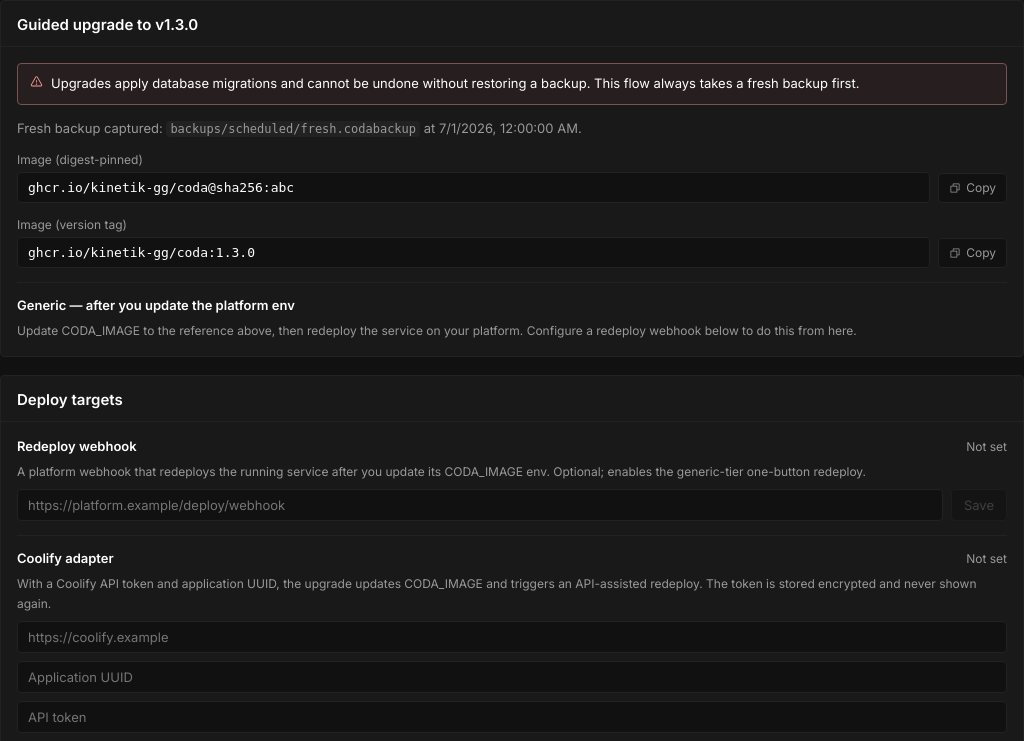
Test case: UpgradeCeremony › copies the digest-pinned image reference to the clipboard
This screenshot has width=1024, height=741.
What coordinates should you click on to do the following:
click the button "Copy" in the row of "ghcr.io/kinetik-gg/coda@sha256:abc"
I would click on:
 (973, 188)
Its box is 938,172 -> 1007,202.
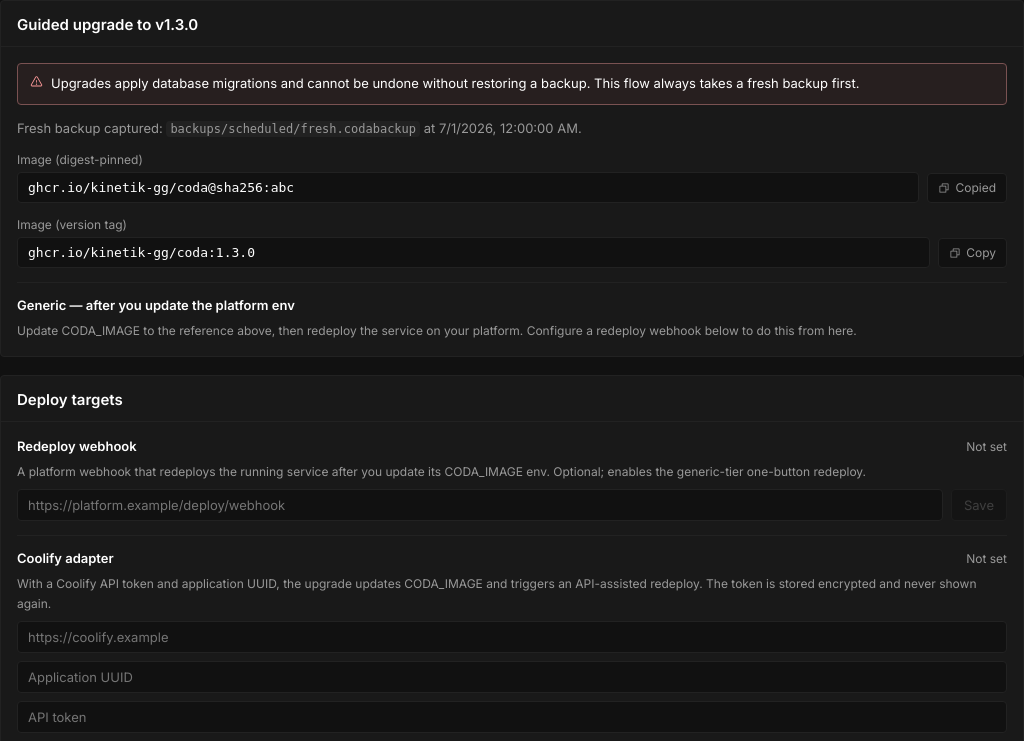
Check: the button "Copied" is shown, box 927,172 -> 1007,202
